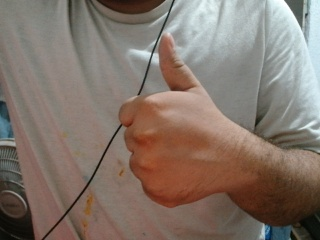Adelante: (118, 31, 245, 210)
